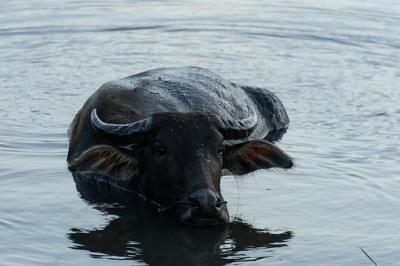buffalo: (66, 66, 295, 266)
